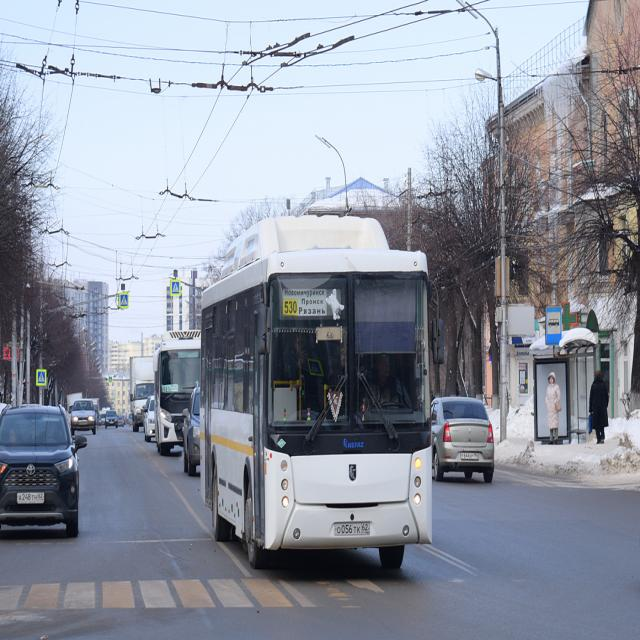number-of-bus: (286, 301, 299, 315)
